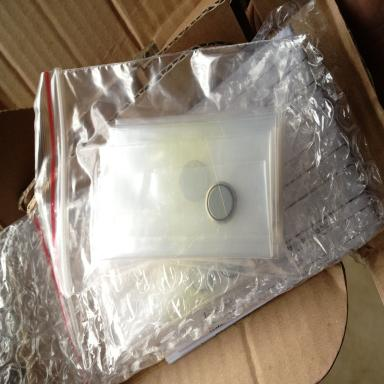plasticbag: (16, 1, 383, 382)
